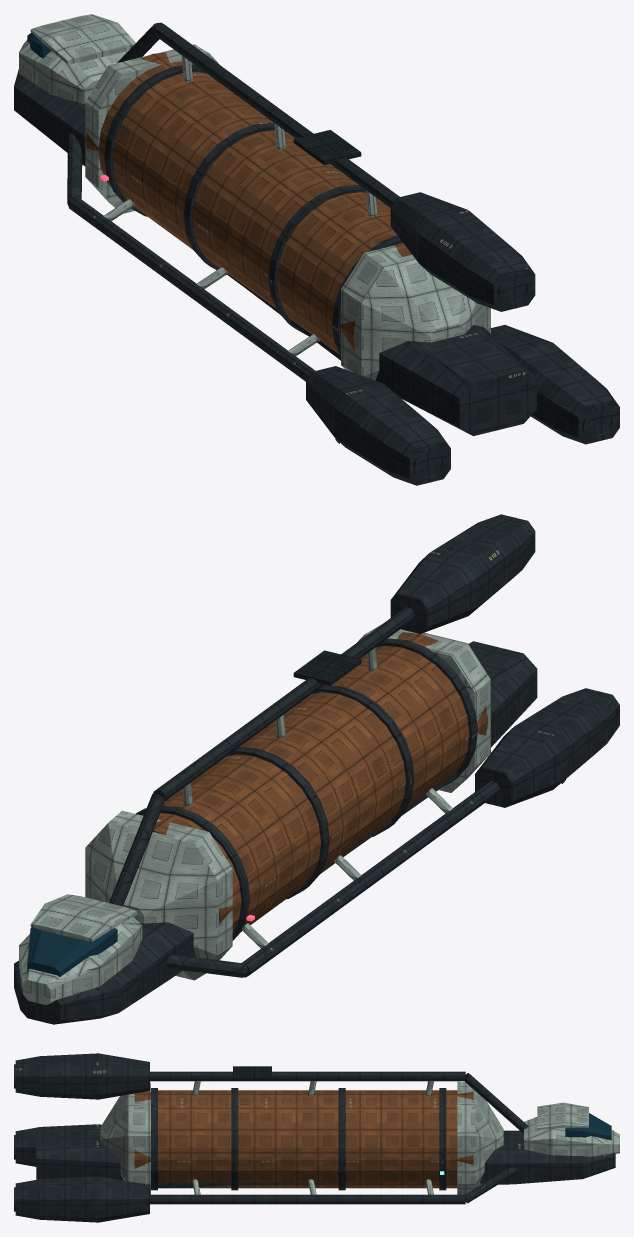
The model's file is ship_cairn.glb.
The picture shows the model from 3 angles, top to bottom: view 1: azimuth 30°, elevation 25°; view 2: azimuth 150°, elevation 25°; view 3: azimuth 270°, elevation 25°; orthographic projection. The views are drawn at different scales.
Visible parts, largest first — view 1: Frame, Bronze, Cream, Thermal; view 2: Frame, Bronze, Cream, Glass, Thermal; view 3: Frame, Bronze, Cream, Glass, Thermal.
Boxes of the visible parts, bbox=[...] form: Frame: bbox=[14, 22, 619, 485]; Bronze: bbox=[85, 52, 411, 354]; Cream: bbox=[19, 14, 490, 380]; Thermal: bbox=[293, 130, 361, 165]; Frame: bbox=[14, 514, 619, 1024]; Bronze: bbox=[142, 632, 487, 933]; Cream: bbox=[19, 624, 490, 1004]; Glass: bbox=[27, 927, 117, 976]; Thermal: bbox=[293, 650, 361, 685]; Frame: bbox=[14, 1053, 615, 1222]; Bronze: bbox=[134, 1090, 473, 1188]; Cream: bbox=[100, 1081, 619, 1194]; Glass: bbox=[565, 1113, 611, 1140]; Thermal: bbox=[233, 1066, 271, 1080].
Size of the model in its own units: 12.42 by 11.12 by 44.89.
8 materials, 6 textured.
